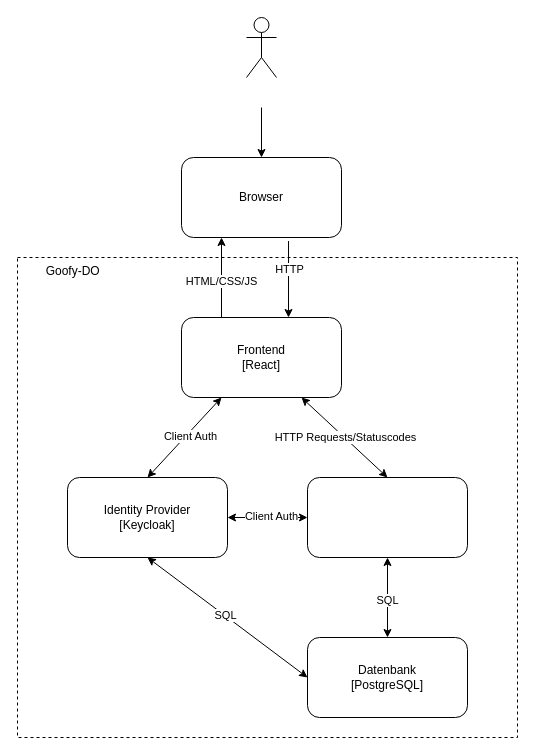
Image size: 535x755. Some labels were removed from this diagram. The centre of each missing label's shape, as x and y in pixels:
Backend [Quarkus]: (387,517)
User: (261,47)
